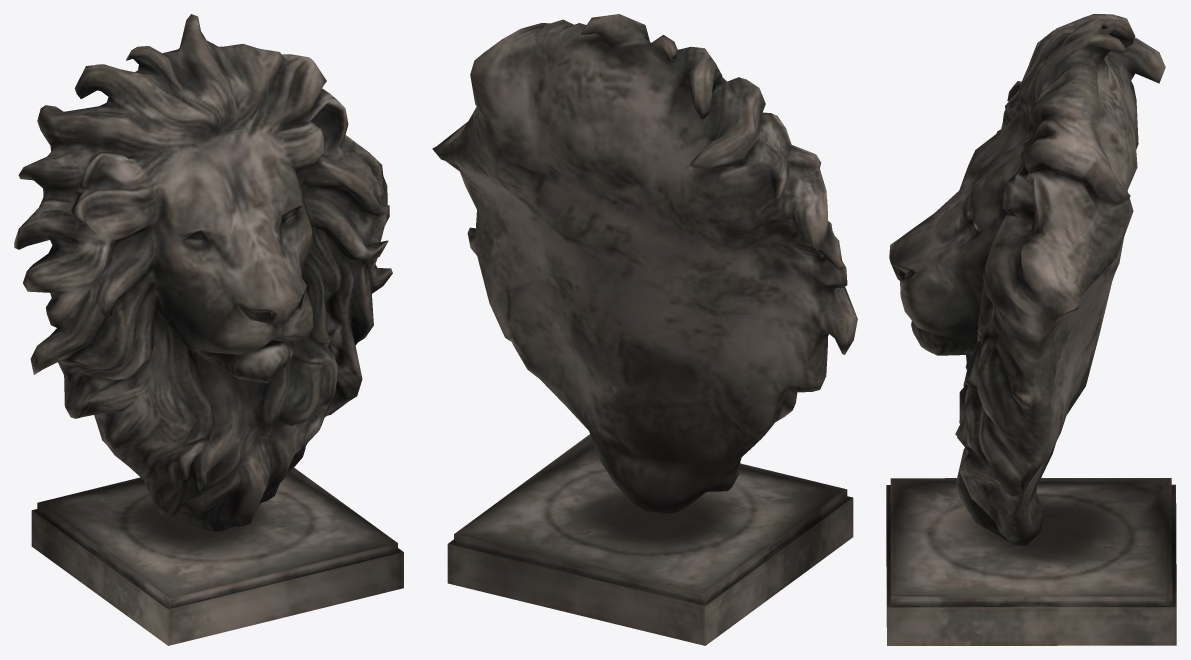
Rendered from lion_head.glb.
3 views of the same model, side by side, from view 1: azimuth 30°, elevation 25°; view 2: azimuth 150°, elevation 25°; view 3: azimuth 270°, elevation 25° (orthographic). The views are drawn at different scales.
Visible parts, largest first — view 1: lion_head; view 2: lion_head; view 3: lion_head.
Part boxes in pixels (box(x1,y1,x2,y2)): lion_head: box(14, 14, 403, 645); lion_head: box(432, 14, 857, 645); lion_head: box(886, 14, 1176, 645).
Bounding box in the file's own units: 0.3199 × 0.434 × 0.2066.
1 material, 1 textured.
